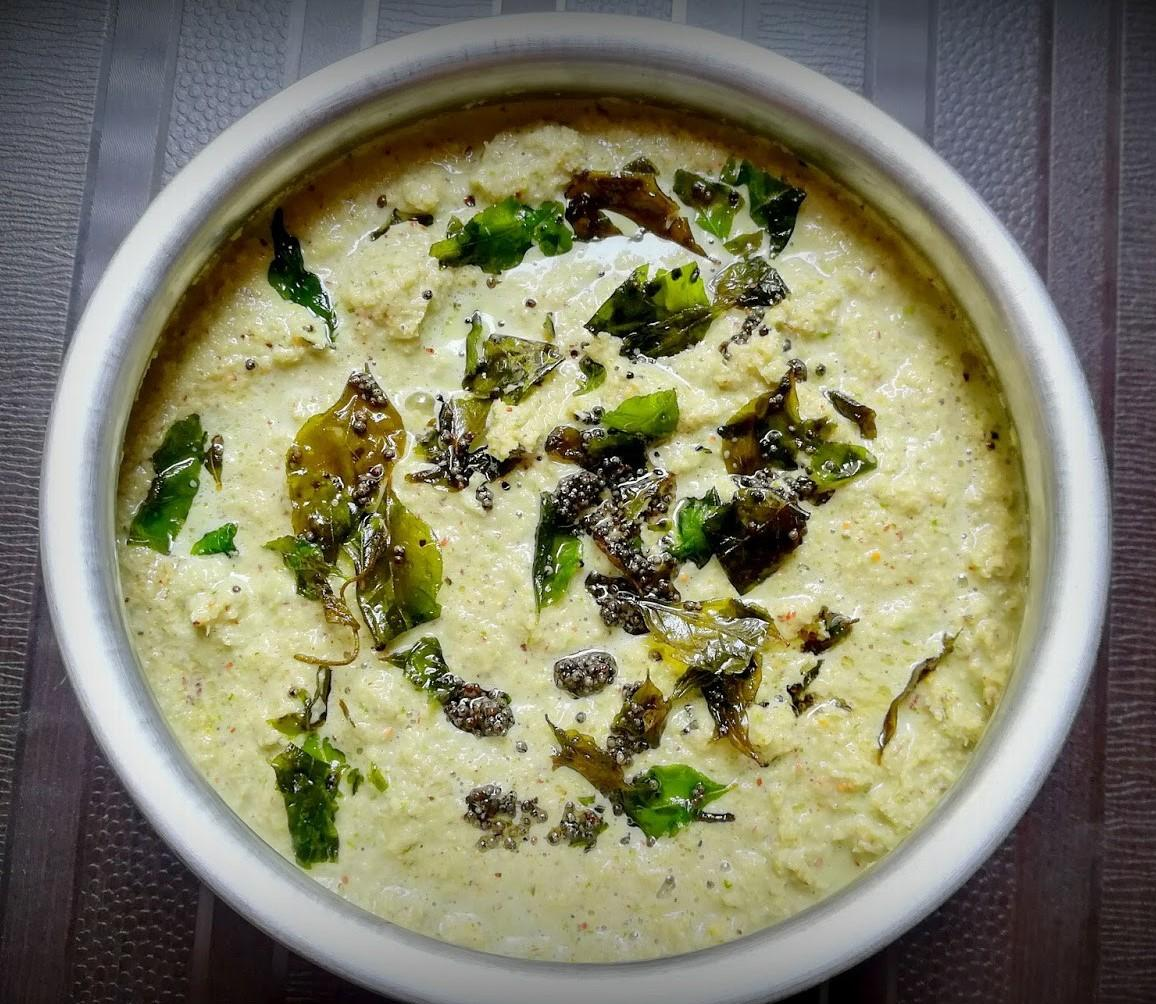CoconutChutney: (116, 94, 1031, 963)
